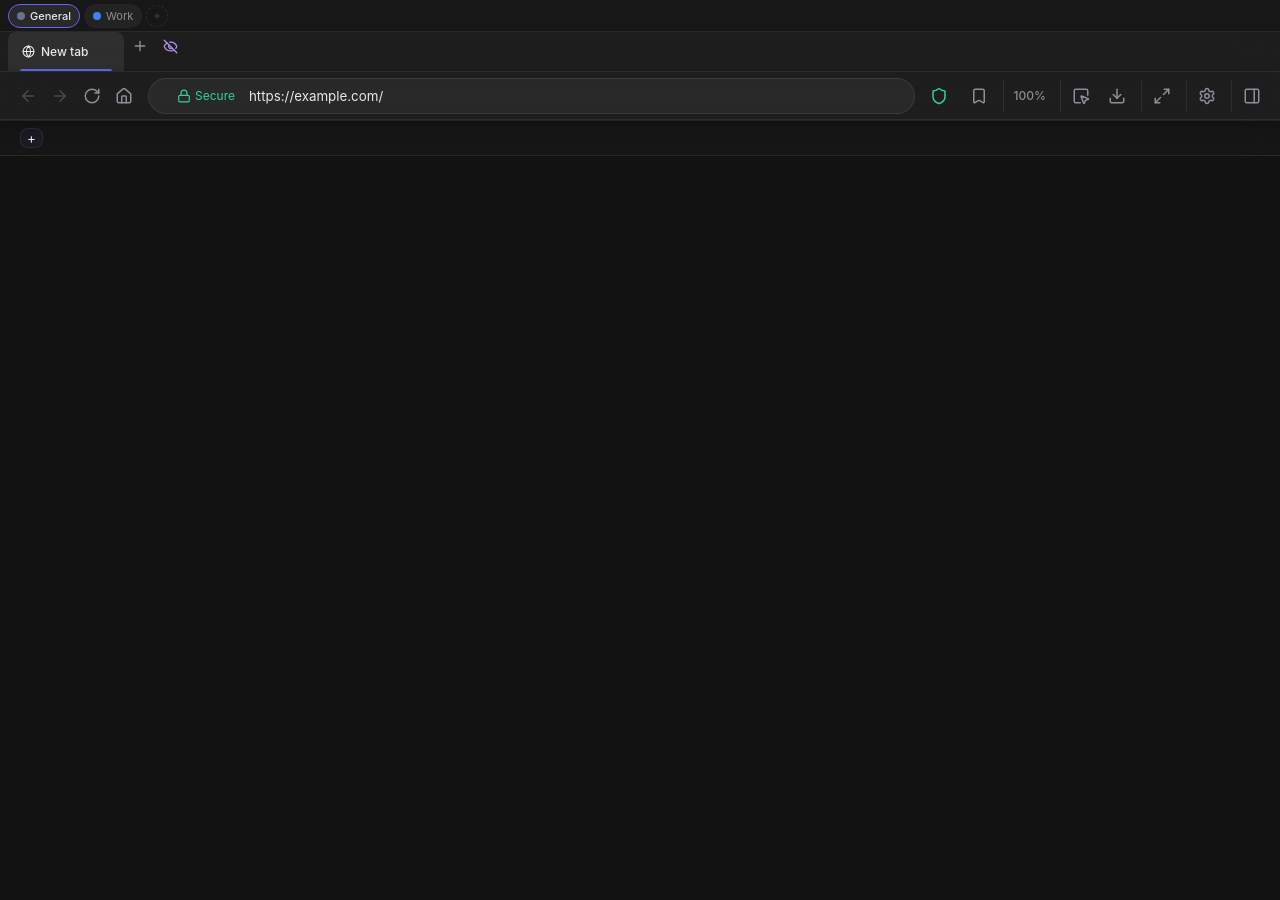
Test: App › clicking the downloads indicator opens the Downloads modal, not the sidebar
Step 1. Click the button named "downloads" → click(1117, 96), box x1=1101 y1=80 x2=1133 y2=112
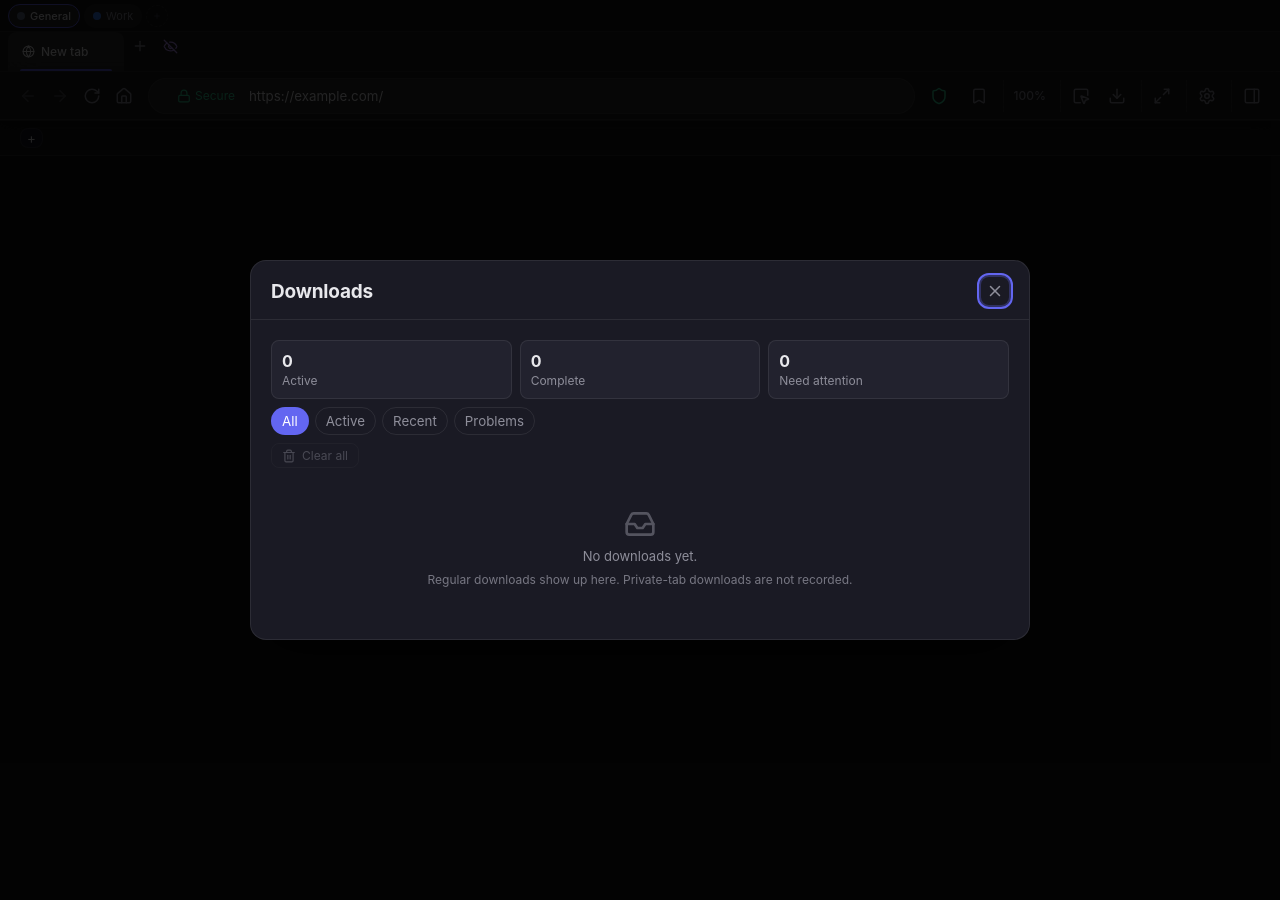
Expected: the dialog "Downloads" is shown, x1=250 y1=260 x2=1030 y2=640
